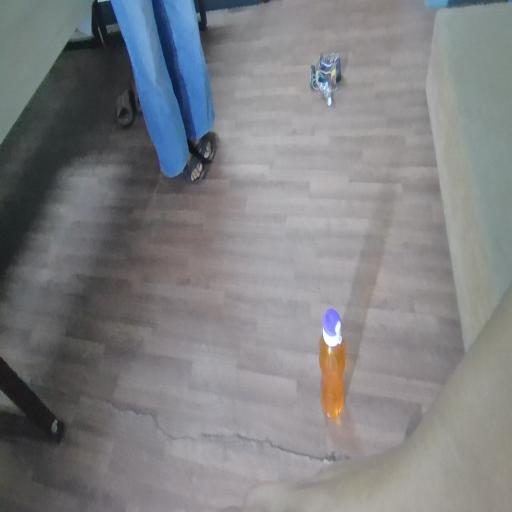Bottle: (316, 289, 363, 427)
car: (301, 27, 348, 103)
